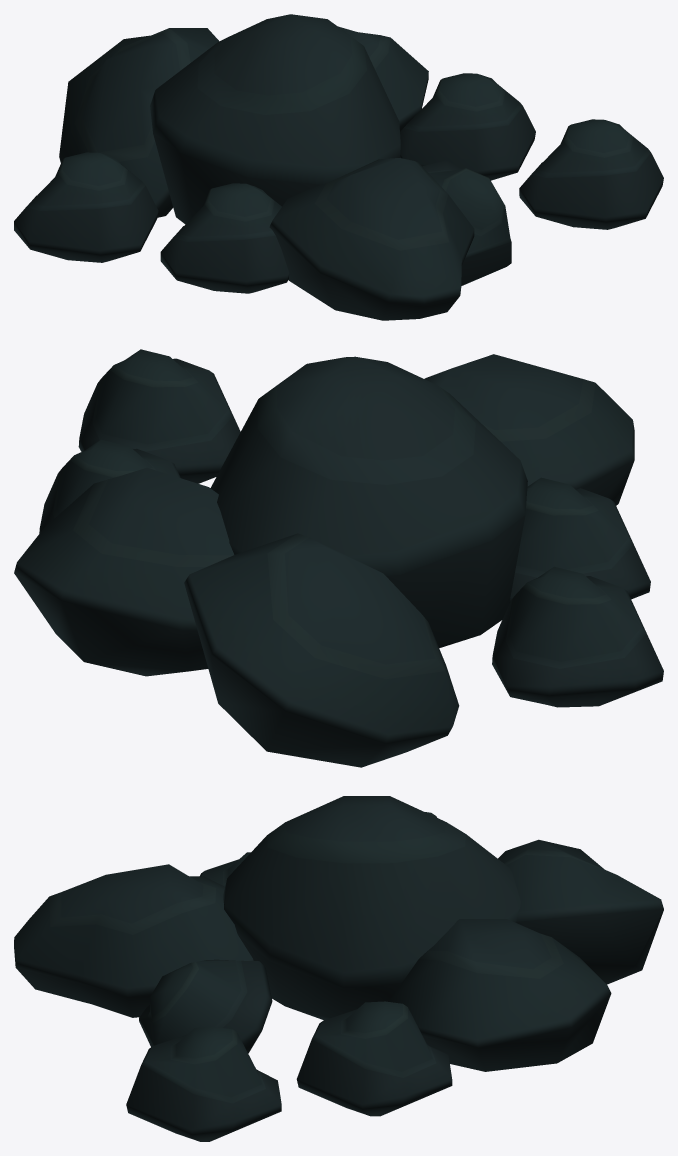
Rendered from coal_ore_pile.fbx.
3 renders of one model, top to bottom at view 1: azimuth 30°, elevation 25°; view 2: azimuth 150°, elevation 25°; view 3: azimuth 270°, elevation 25°, orthographic. The views are drawn at different scales.
Parts seen in each view (by area): view 1: coal_ore_pile; view 2: coal_ore_pile; view 3: coal_ore_pile.
Boxes of the visible parts, x1,y1,x2,y2 form: coal_ore_pile: [14, 14, 663, 320]; coal_ore_pile: [14, 349, 663, 767]; coal_ore_pile: [14, 796, 663, 1141].
Size of the model in its own units: 142 by 54.59 by 137.
1 material, 1 textured.
